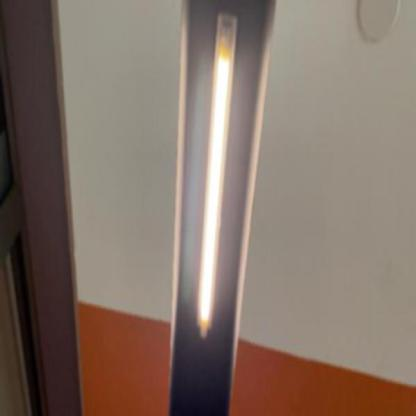light_on: (190, 7, 244, 354)
